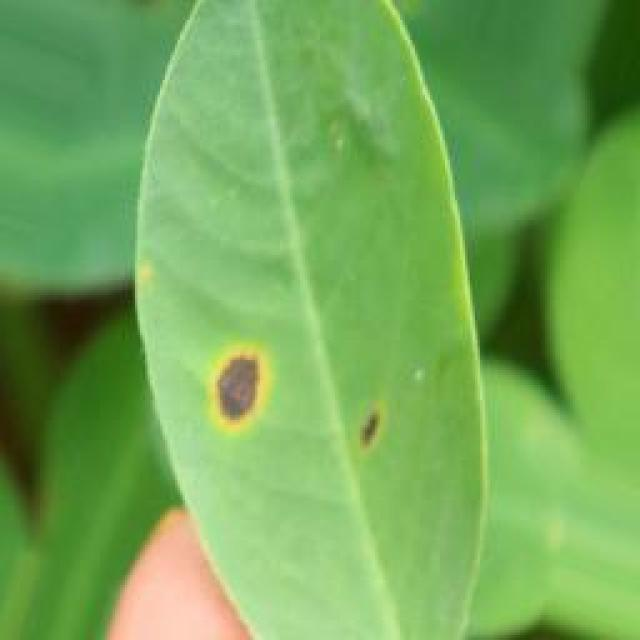Sigatoka: (182, 348, 278, 436), (322, 375, 381, 453), (109, 237, 169, 313)
